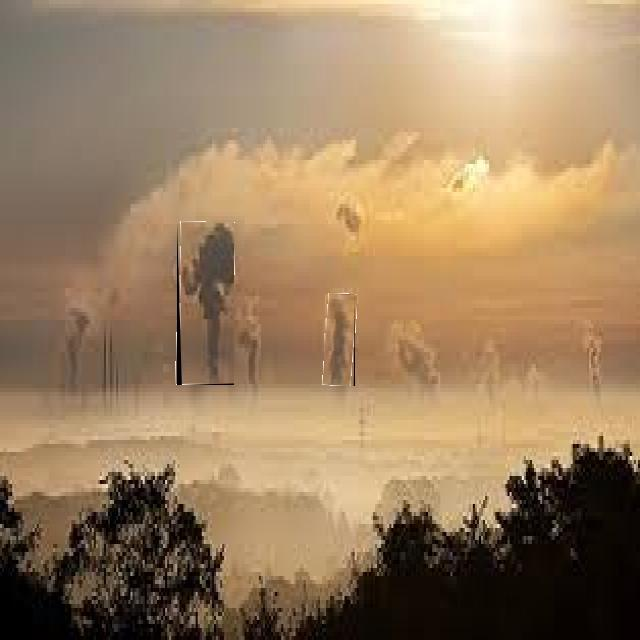smoke: (93, 132, 636, 292), (181, 225, 236, 385), (391, 326, 444, 386), (60, 309, 90, 398), (238, 294, 262, 387), (470, 339, 498, 413), (582, 326, 606, 400), (438, 161, 483, 199), (330, 298, 346, 386), (333, 200, 369, 236)
